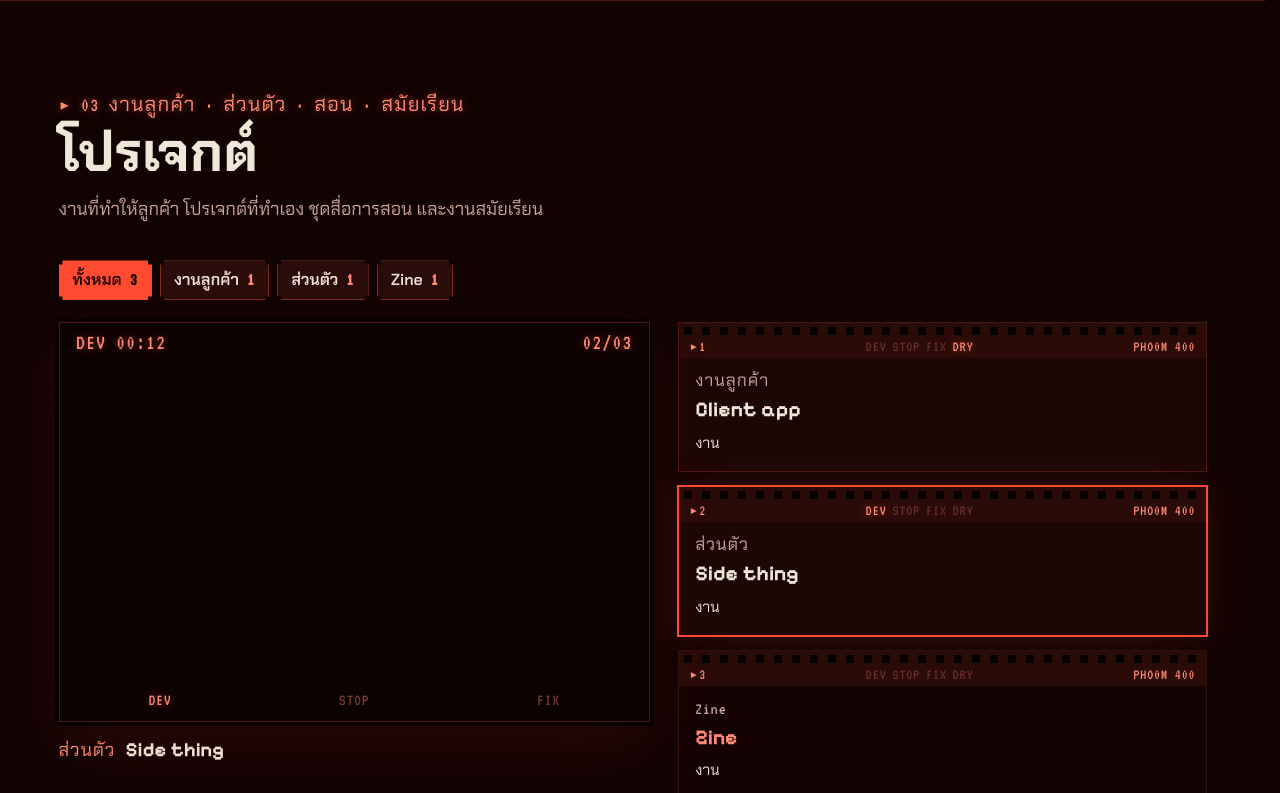
public site › shows client work as text with an NDA note, and survives an unknown group
What coordinates should you click on to do the following:
click the button "งานลูกค้า 1"
I would click on:
 (215, 280)
Its box is [160,260,269,300].
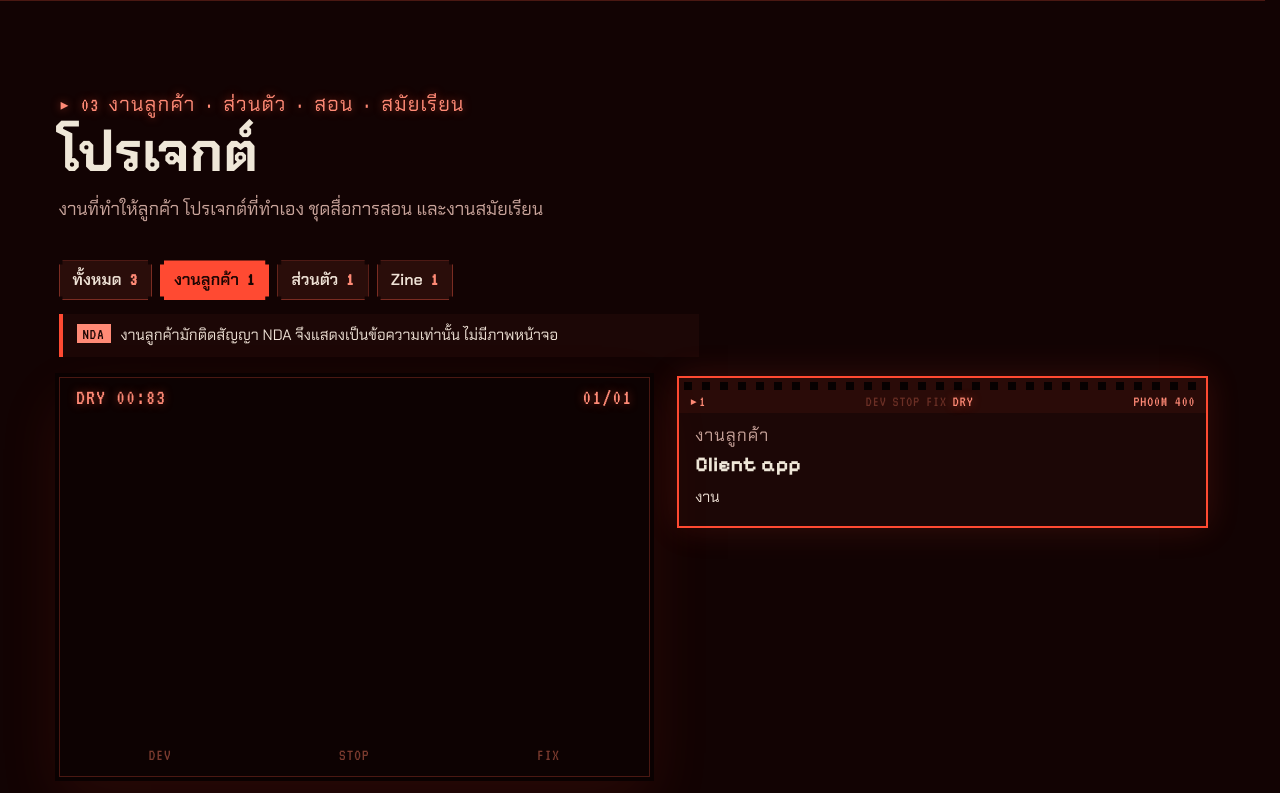
Expected: the number of list items is 1, [678,377,1206,527]
Expected: the element with class "nda-note" shows "NDA", [82,326,105,342]
What coordinates should you click on to do the following:
click the button "Zine 1"
I would click on:
 (415, 280)
Its box is [377,260,453,300].
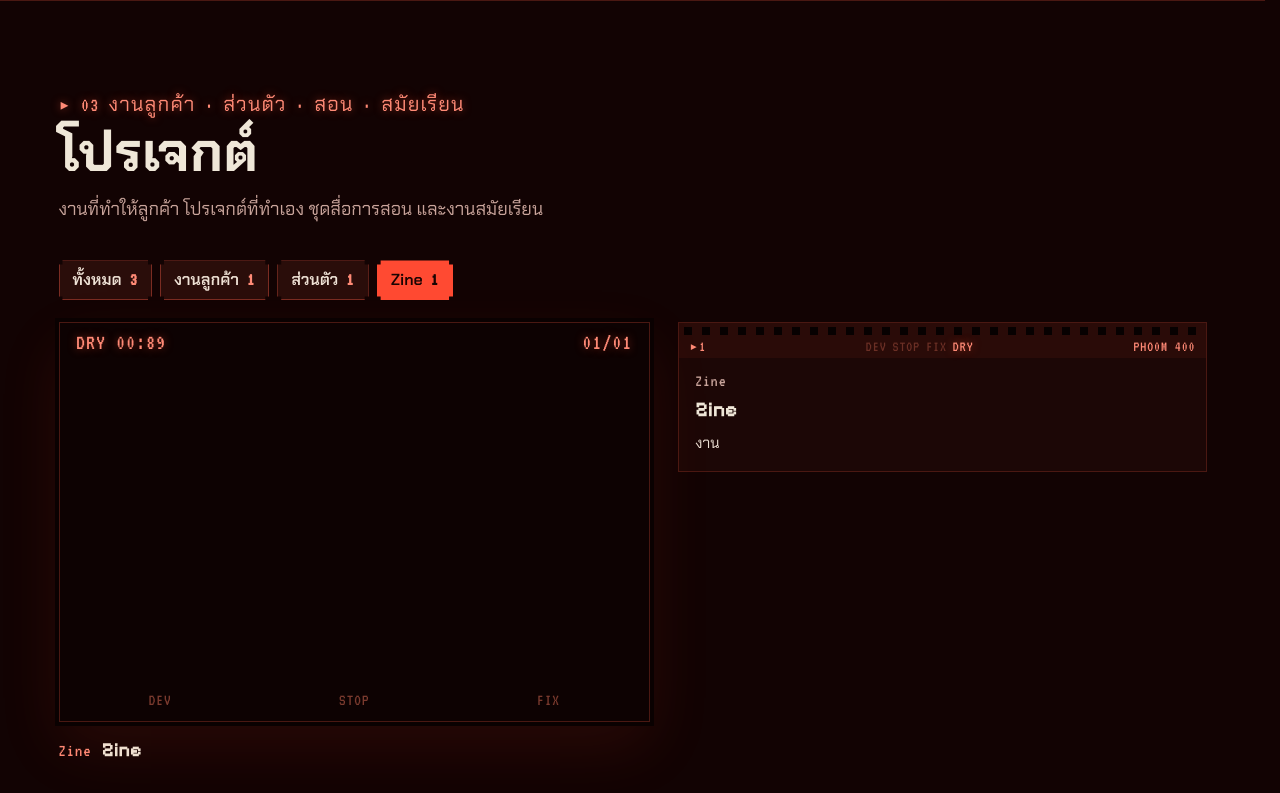
Expected: the number of list items is 1, [678,322,1206,472]
Expected: the element with class "nda-note" is gone
